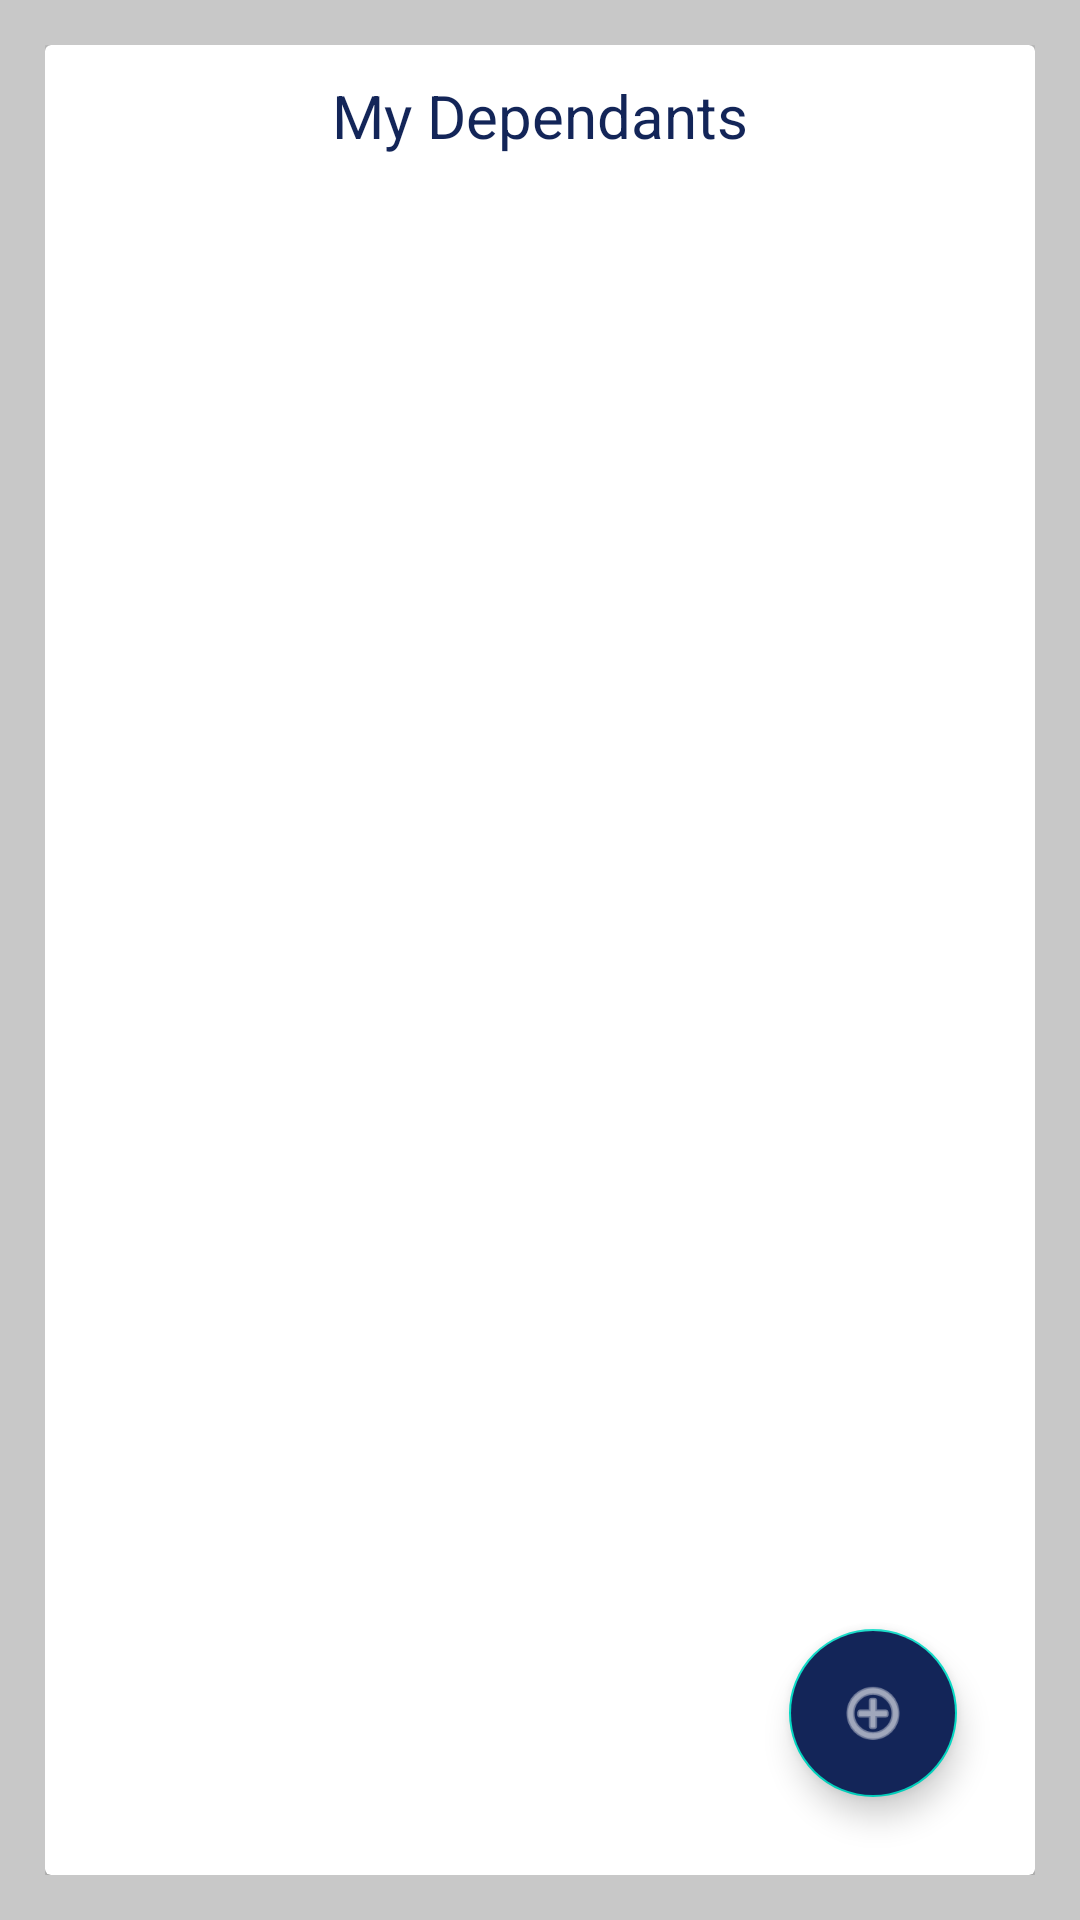

Point at icon controls on the screen. Image size 1080×1920, points as [x,y].
add: [873,1713]
